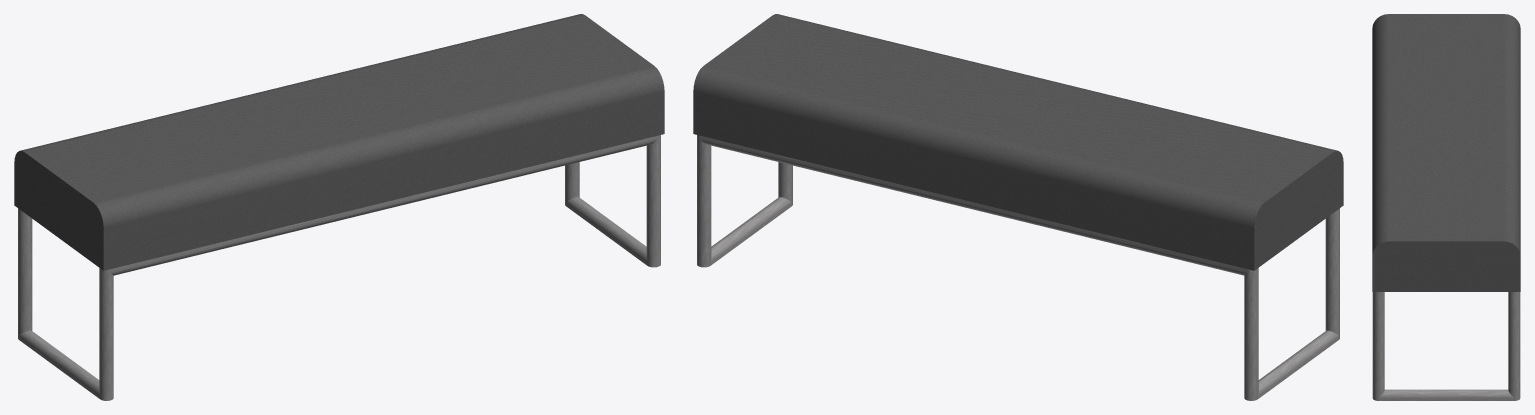
The model's file is Bench.fbx.
3 renders of one model, left to right at view 1: azimuth 30°, elevation 25°; view 2: azimuth 150°, elevation 25°; view 3: azimuth 270°, elevation 25°, orthographic. The views are drawn at different scales.
Visible parts, largest first — view 1: pCylinder7; view 2: pCylinder7; view 3: pCylinder7.
Part boxes in pixels (left/top/right/bottom): pCylinder7: left=14, top=14, right=664, bottom=400; pCylinder7: left=693, top=14, right=1343, bottom=400; pCylinder7: left=1372, top=14, right=1520, bottom=400.
Bounding box in the file's own units: 58 × 19 × 16.
